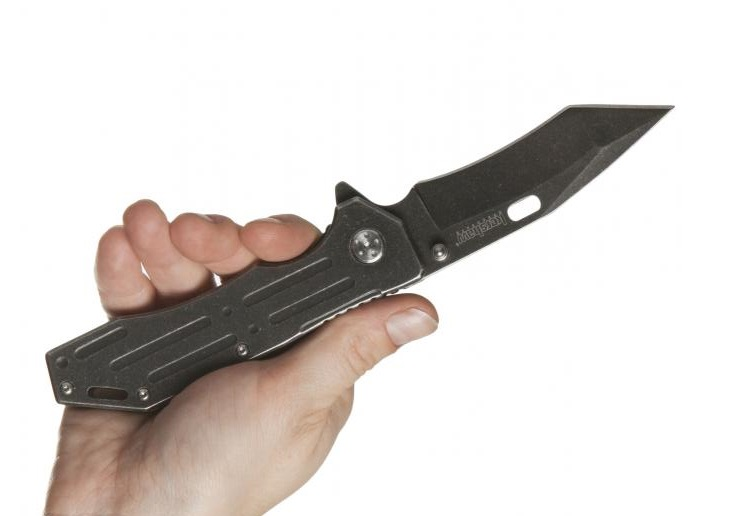knife: (216, 84, 694, 384)
